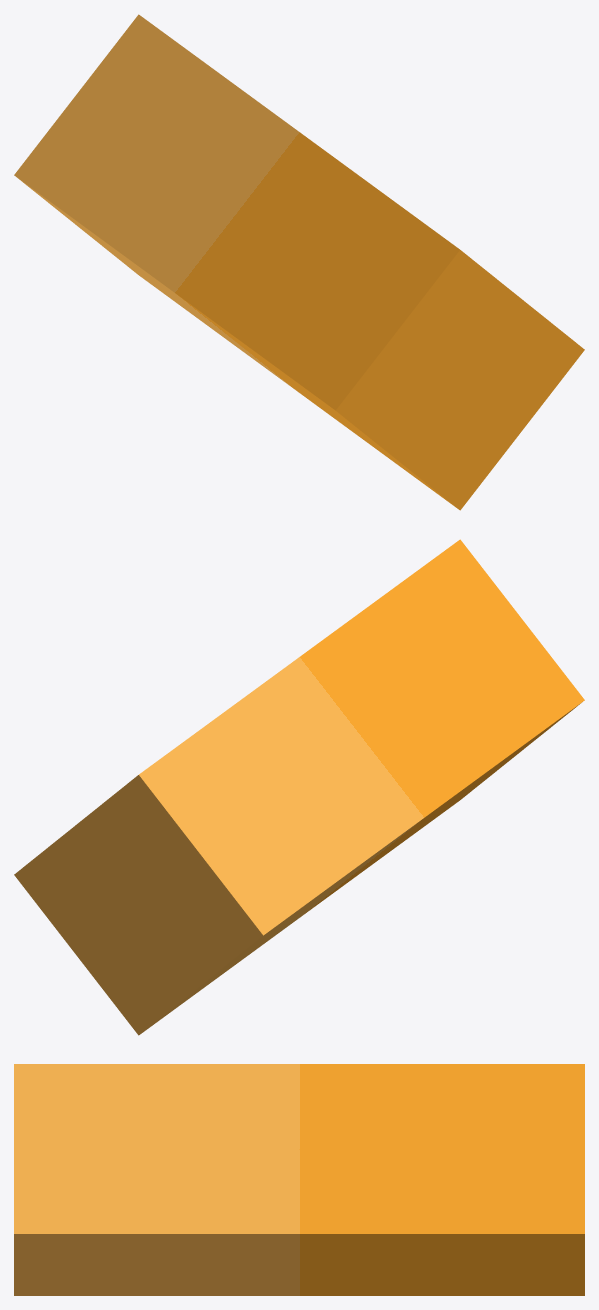
File: boolet.glb
3 renders of one model, top to bottom at view 1: azimuth 30°, elevation 25°; view 2: azimuth 150°, elevation 25°; view 3: azimuth 270°, elevation 25°, orthographic. The views are drawn at different scales.
Visible parts, largest first — view 1: Cube; view 2: Cube; view 3: Cube.
Part boxes in pixels (bbox=[...]): Cube: bbox=[14, 14, 584, 510]; Cube: bbox=[14, 539, 584, 1035]; Cube: bbox=[14, 1064, 584, 1295].
Size of the model in its own units: 0.84 by 0.84 by 1.88.
1 material, 1 textured.
